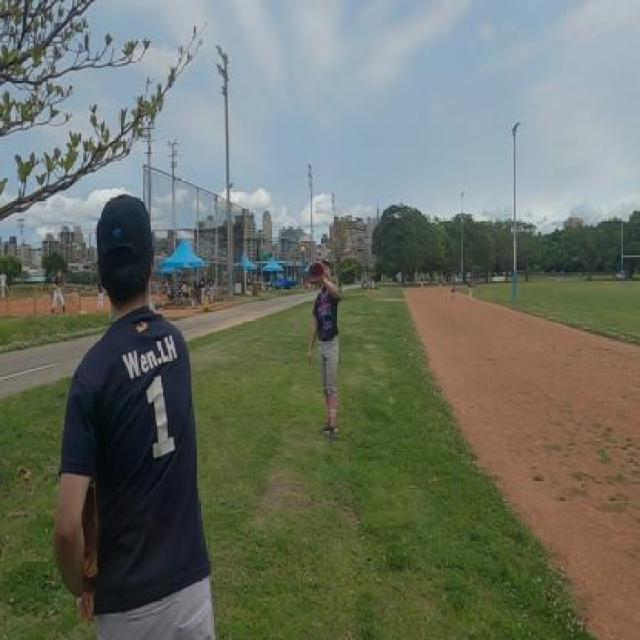baseball: (300, 246, 305, 254)
